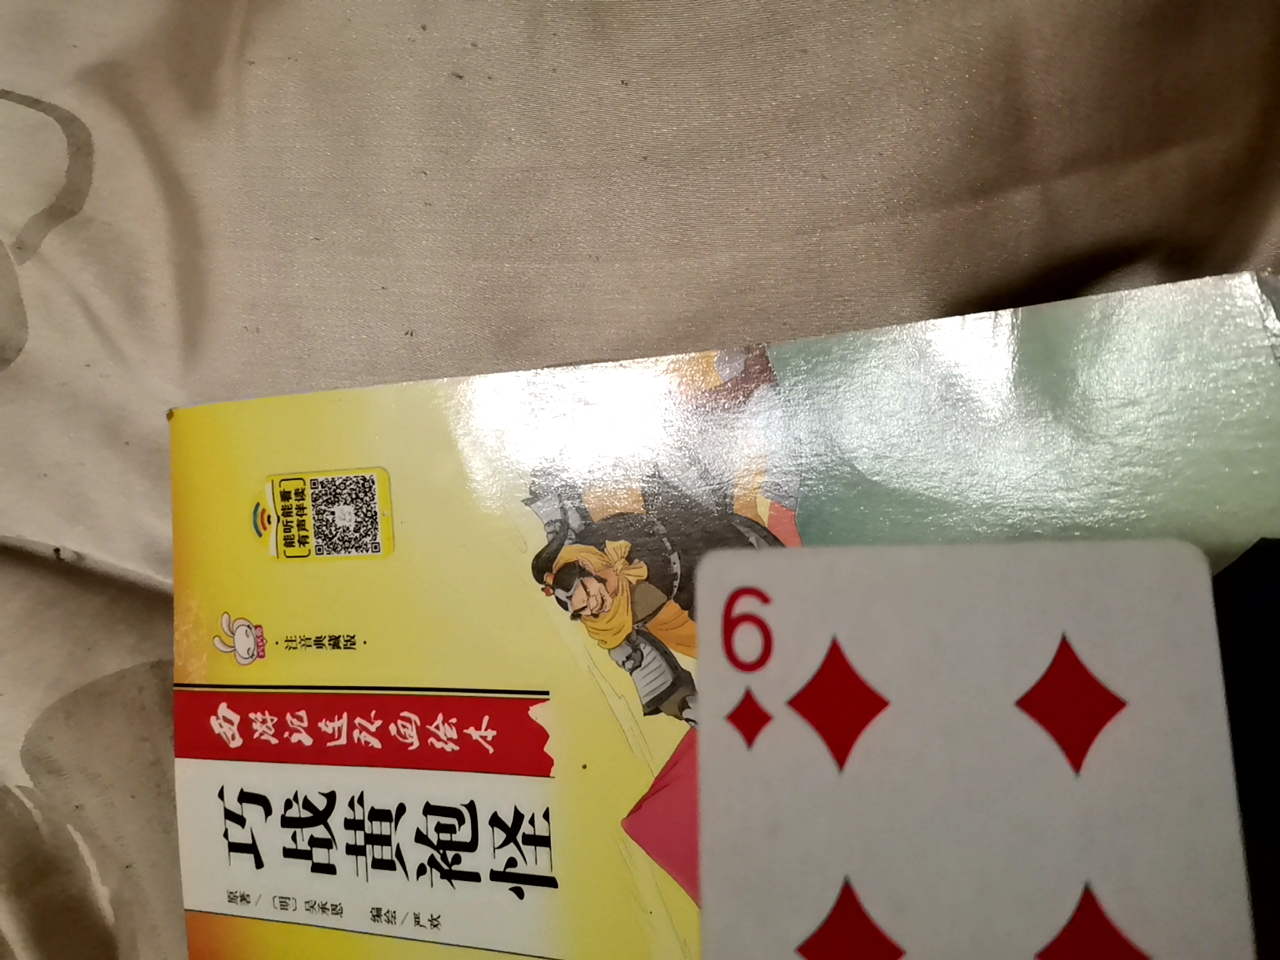fk 6: (663, 527, 1260, 956)
